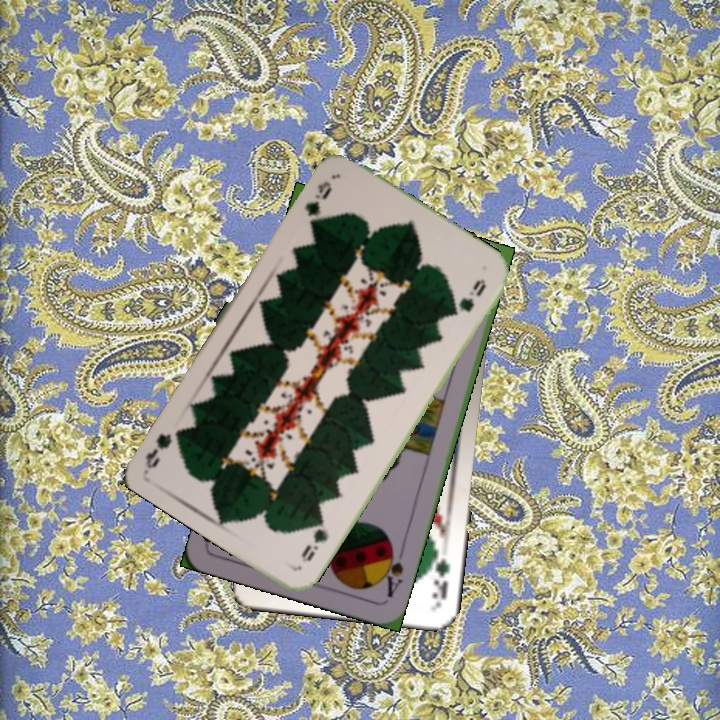G9: (300, 176, 335, 230), (297, 513, 331, 565)
GK: (428, 545, 453, 605)
SA: (377, 541, 406, 600)
